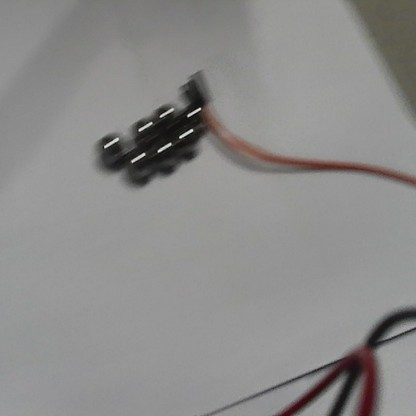ironball: (95, 134, 129, 168), (149, 134, 179, 172), (126, 149, 157, 183), (127, 114, 160, 144), (153, 99, 182, 130), (172, 127, 202, 156), (180, 99, 207, 129)
